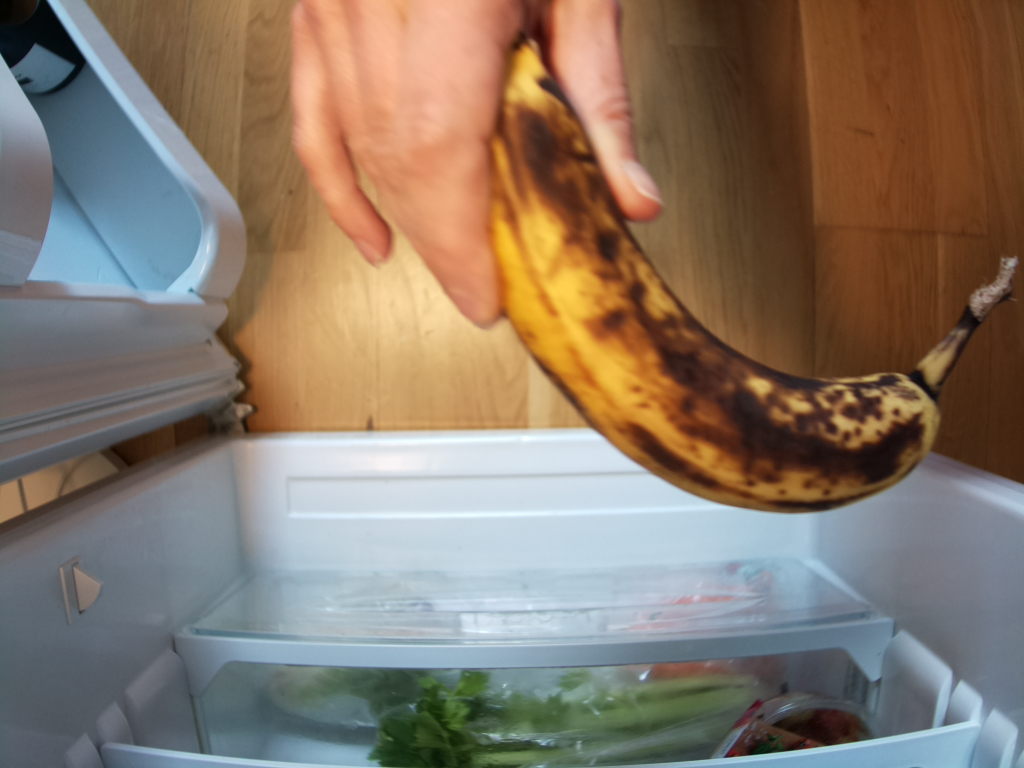banana-overripe: (489, 38, 1015, 514)
